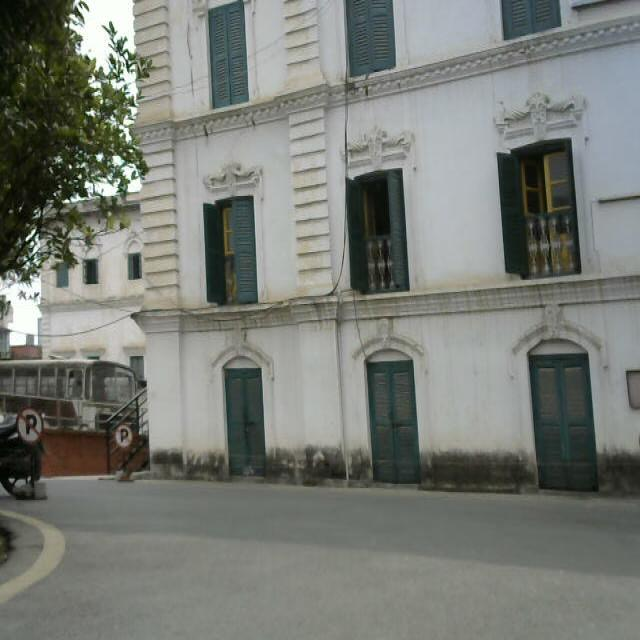Buildings: (133, 0, 640, 509)
NoParking: (18, 409, 66, 518), (115, 422, 142, 483)
Road: (0, 484, 640, 640)
trees: (0, 0, 147, 290)
